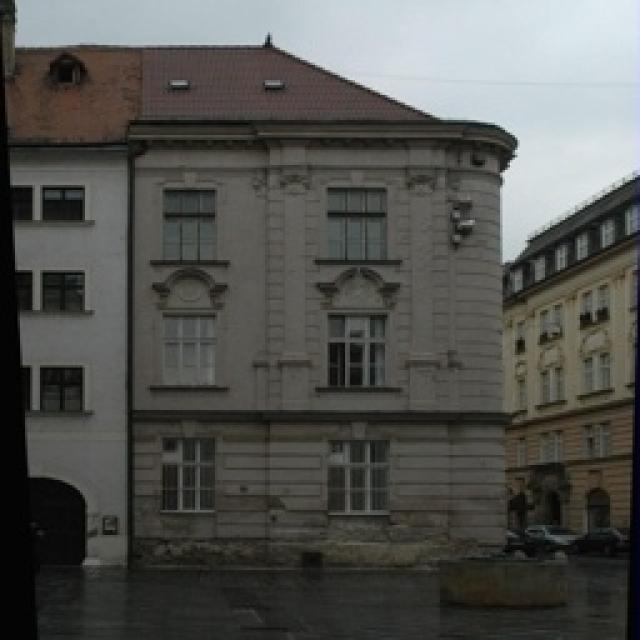building: (120, 32, 525, 590)
